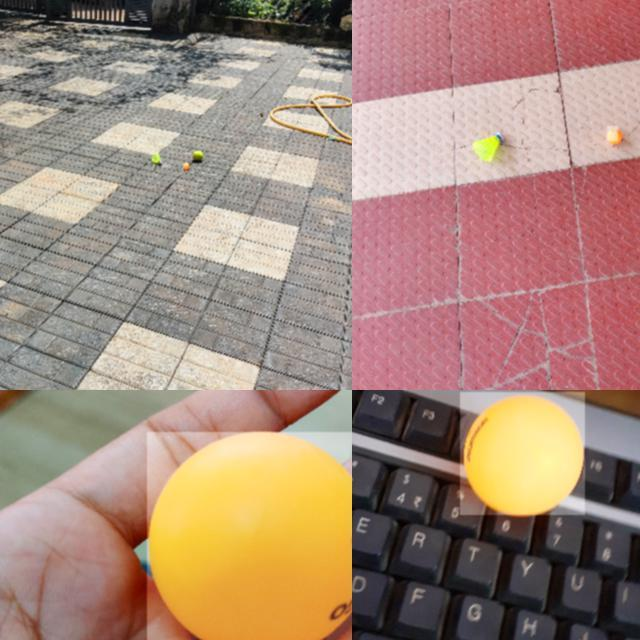ping-pong-ball: (147, 432, 351, 639), (460, 392, 586, 516), (607, 126, 619, 142), (183, 164, 189, 172)
